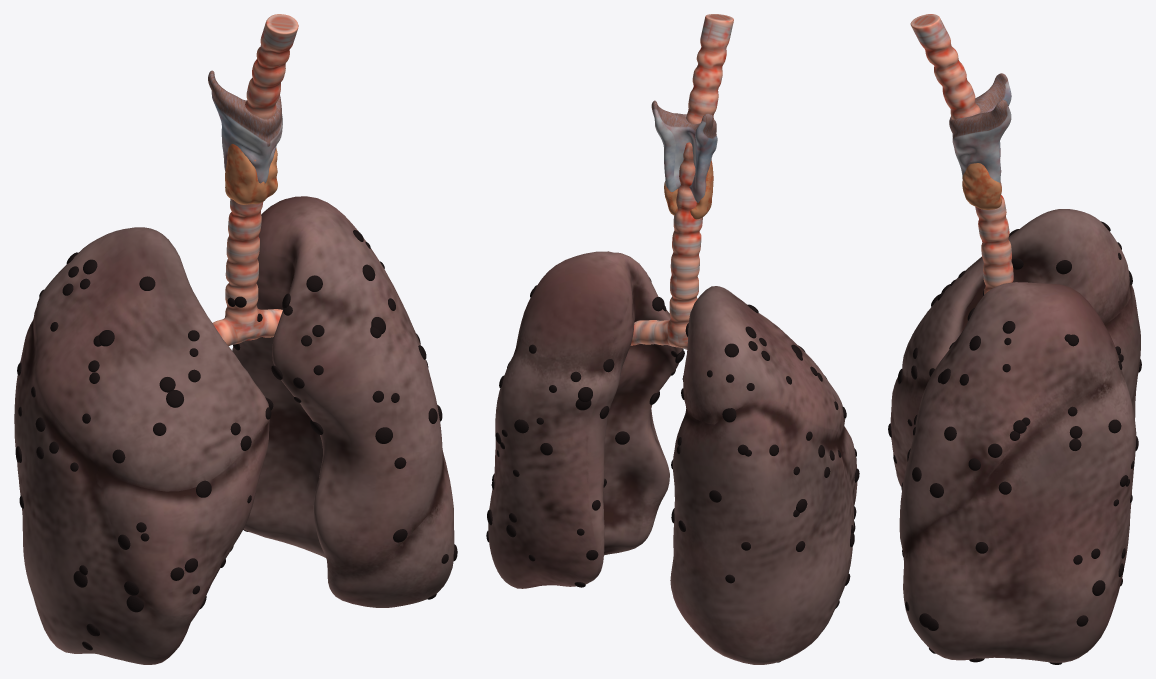
File: lungs-smoker.glb
The picture shows the model from 3 angles, left to right: view 1: azimuth 30°, elevation 25°; view 2: azimuth 150°, elevation 25°; view 3: azimuth 270°, elevation 25°; orthographic projection. The views are drawn at different scales.
Visible parts, largest first — view 1: thairoid01:low_part02_Group6344:Group24638_thairoid01:lungh_, thairoid01:low_part01_Group6344:Group18522_thairoid01:lungh_, lungs-smoker-add_0; view 2: thairoid01:low_part02_Group6344:Group24638_thairoid01:lungh_, thairoid01:low_part01_Group6344:Group18522_thairoid01:lungh_, lungs-smoker-add_0; view 3: thairoid01:low_part02_Group6344:Group24638_thairoid01:lungh_, thairoid01:low_part01_Group6344:Group18522_thairoid01:lungh_, lungs-smoker-add_0.
Boxes of the visible parts, bbox=[...] form: thairoid01:low_part02_Group6344:Group24638_thairoid01:lungh_: bbox=[14, 196, 454, 664]; thairoid01:low_part01_Group6344:Group18522_thairoid01:lungh_: bbox=[208, 14, 298, 345]; lungs-smoker-add_0: bbox=[15, 230, 457, 650]; thairoid01:low_part02_Group6344:Group24638_thairoid01:lungh_: bbox=[488, 251, 857, 664]; thairoid01:low_part01_Group6344:Group18522_thairoid01:lungh_: bbox=[630, 14, 733, 349]; lungs-smoker-add_0: bbox=[486, 277, 859, 662]; thairoid01:low_part02_Group6344:Group24638_thairoid01:lungh_: bbox=[890, 209, 1140, 662]; thairoid01:low_part01_Group6344:Group18522_thairoid01:lungh_: bbox=[910, 14, 1013, 294]; lungs-smoker-add_0: bbox=[888, 221, 1141, 664].
Size of the model in its own units: 0.1575 by 0.2609 by 0.1016.
3 materials, 2 textured.
